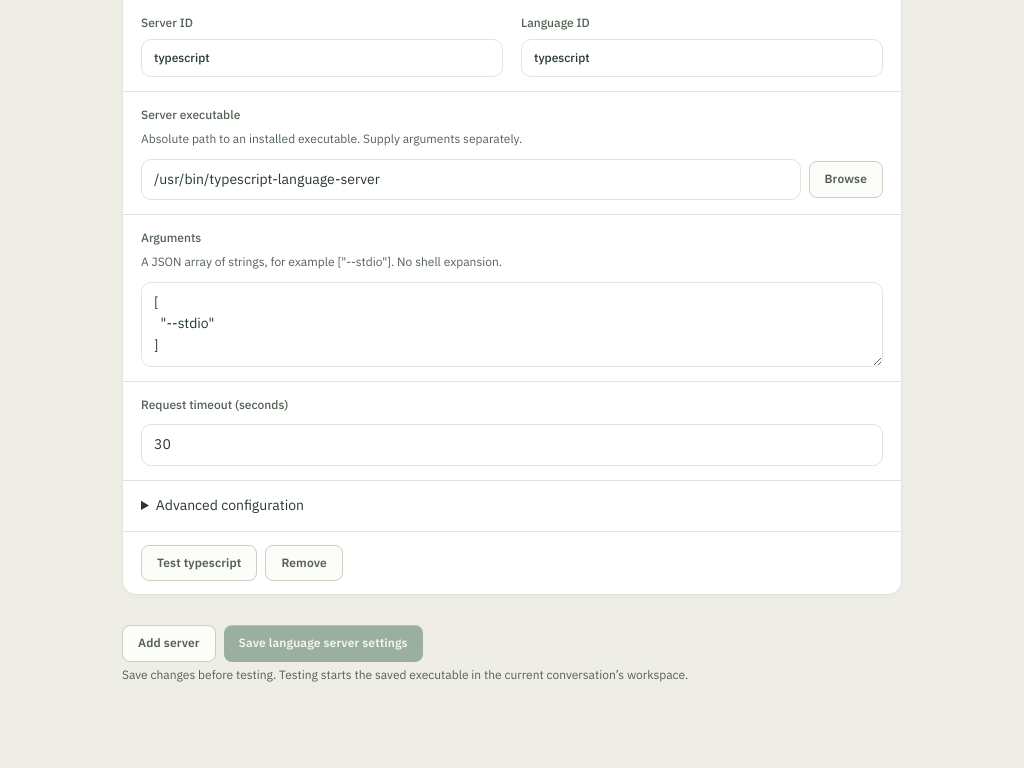
Test: language server settings › tests only saved enabled configuration in the selected workspace and reports failures
The image size is (1024, 768).
(page scrolled)
Click the button "Test typescript".
click(199, 563)  # box [141,545,257,581]
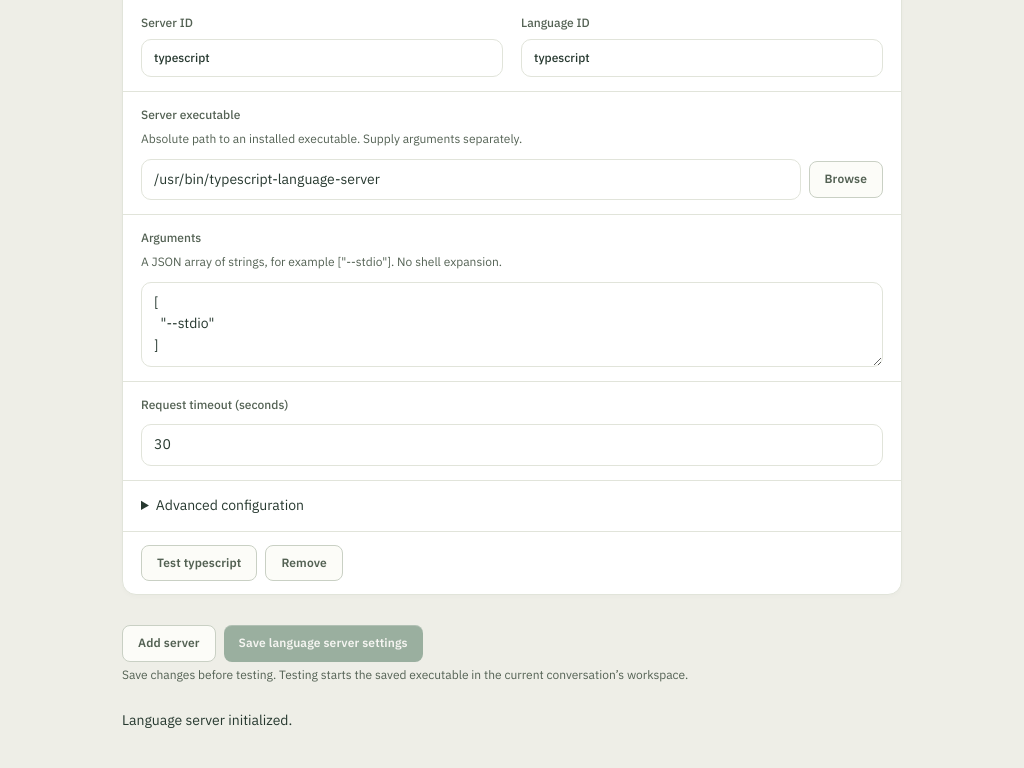
Expected: the text "Language server initialized." is shown, [122,711,292,729]
Click the button "Test typescript".
click(199, 563)  # box [141,545,257,581]
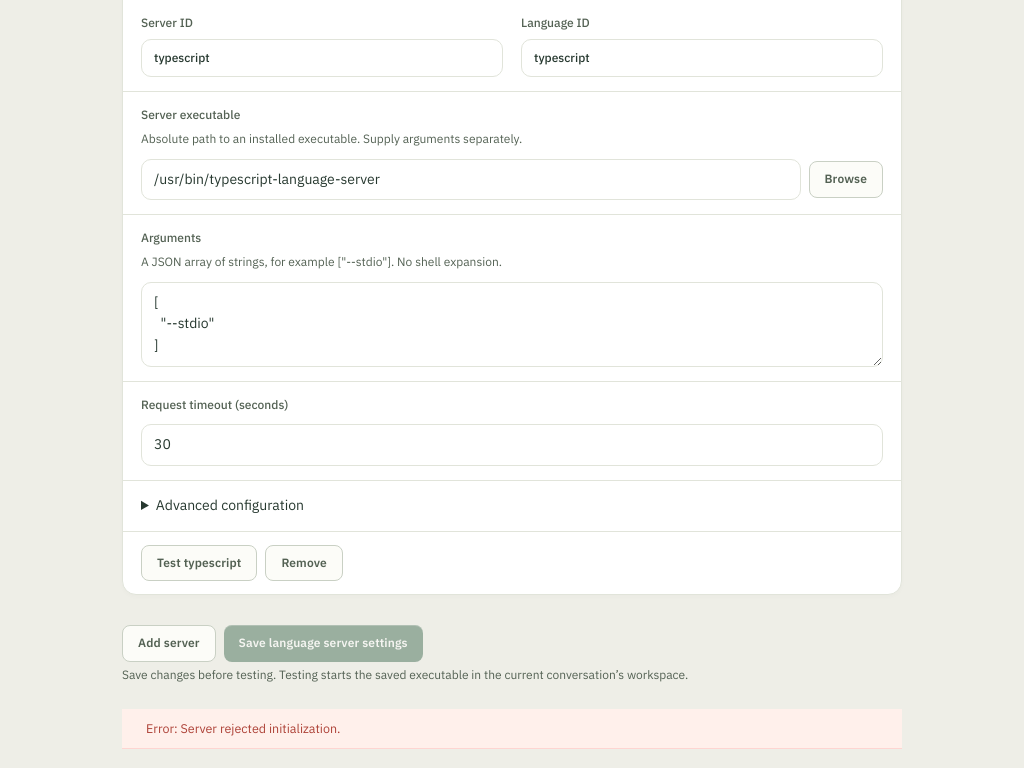
Expected: the message shows "Server rejected initialization", [146,720,340,736]
Expected: the text "Language server initialized." is gone
